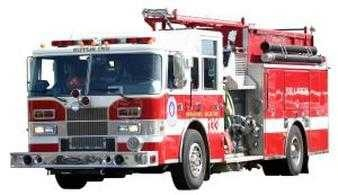Fire Truck: (12, 9, 332, 190)
